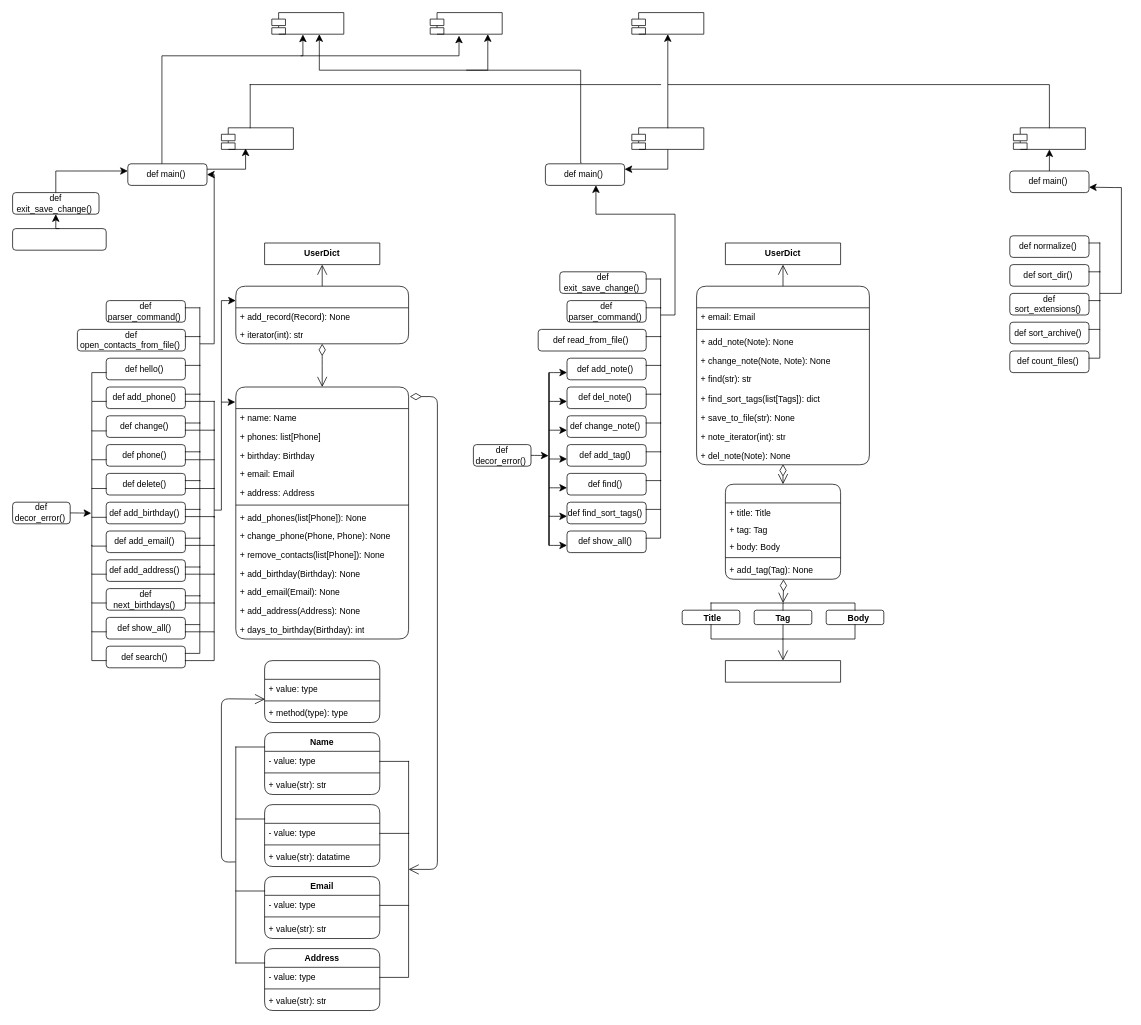
Image size: 1141x1025. Some labels were removed from this diagram. The shapes that lost their labels are listed below. From the top down, each one's box as (x1, y1, x2, y2) in pixels, then its label:
(271, 12, 344, 34): information
(429, 12, 502, 34): prompt_tool
(631, 12, 704, 34): menu
(221, 127, 293, 149): addressbook
(631, 127, 704, 149): notes
(1013, 127, 1085, 149): sort
(12, 228, 106, 250): def save_contacts_to_file()
(235, 285, 409, 344): AdressBook
(696, 285, 869, 465): NoteBook
(235, 386, 409, 639): Record
(725, 483, 841, 579): Note
(725, 660, 841, 682): UserString
(264, 660, 380, 723): Field
(264, 804, 380, 867): Birthday
